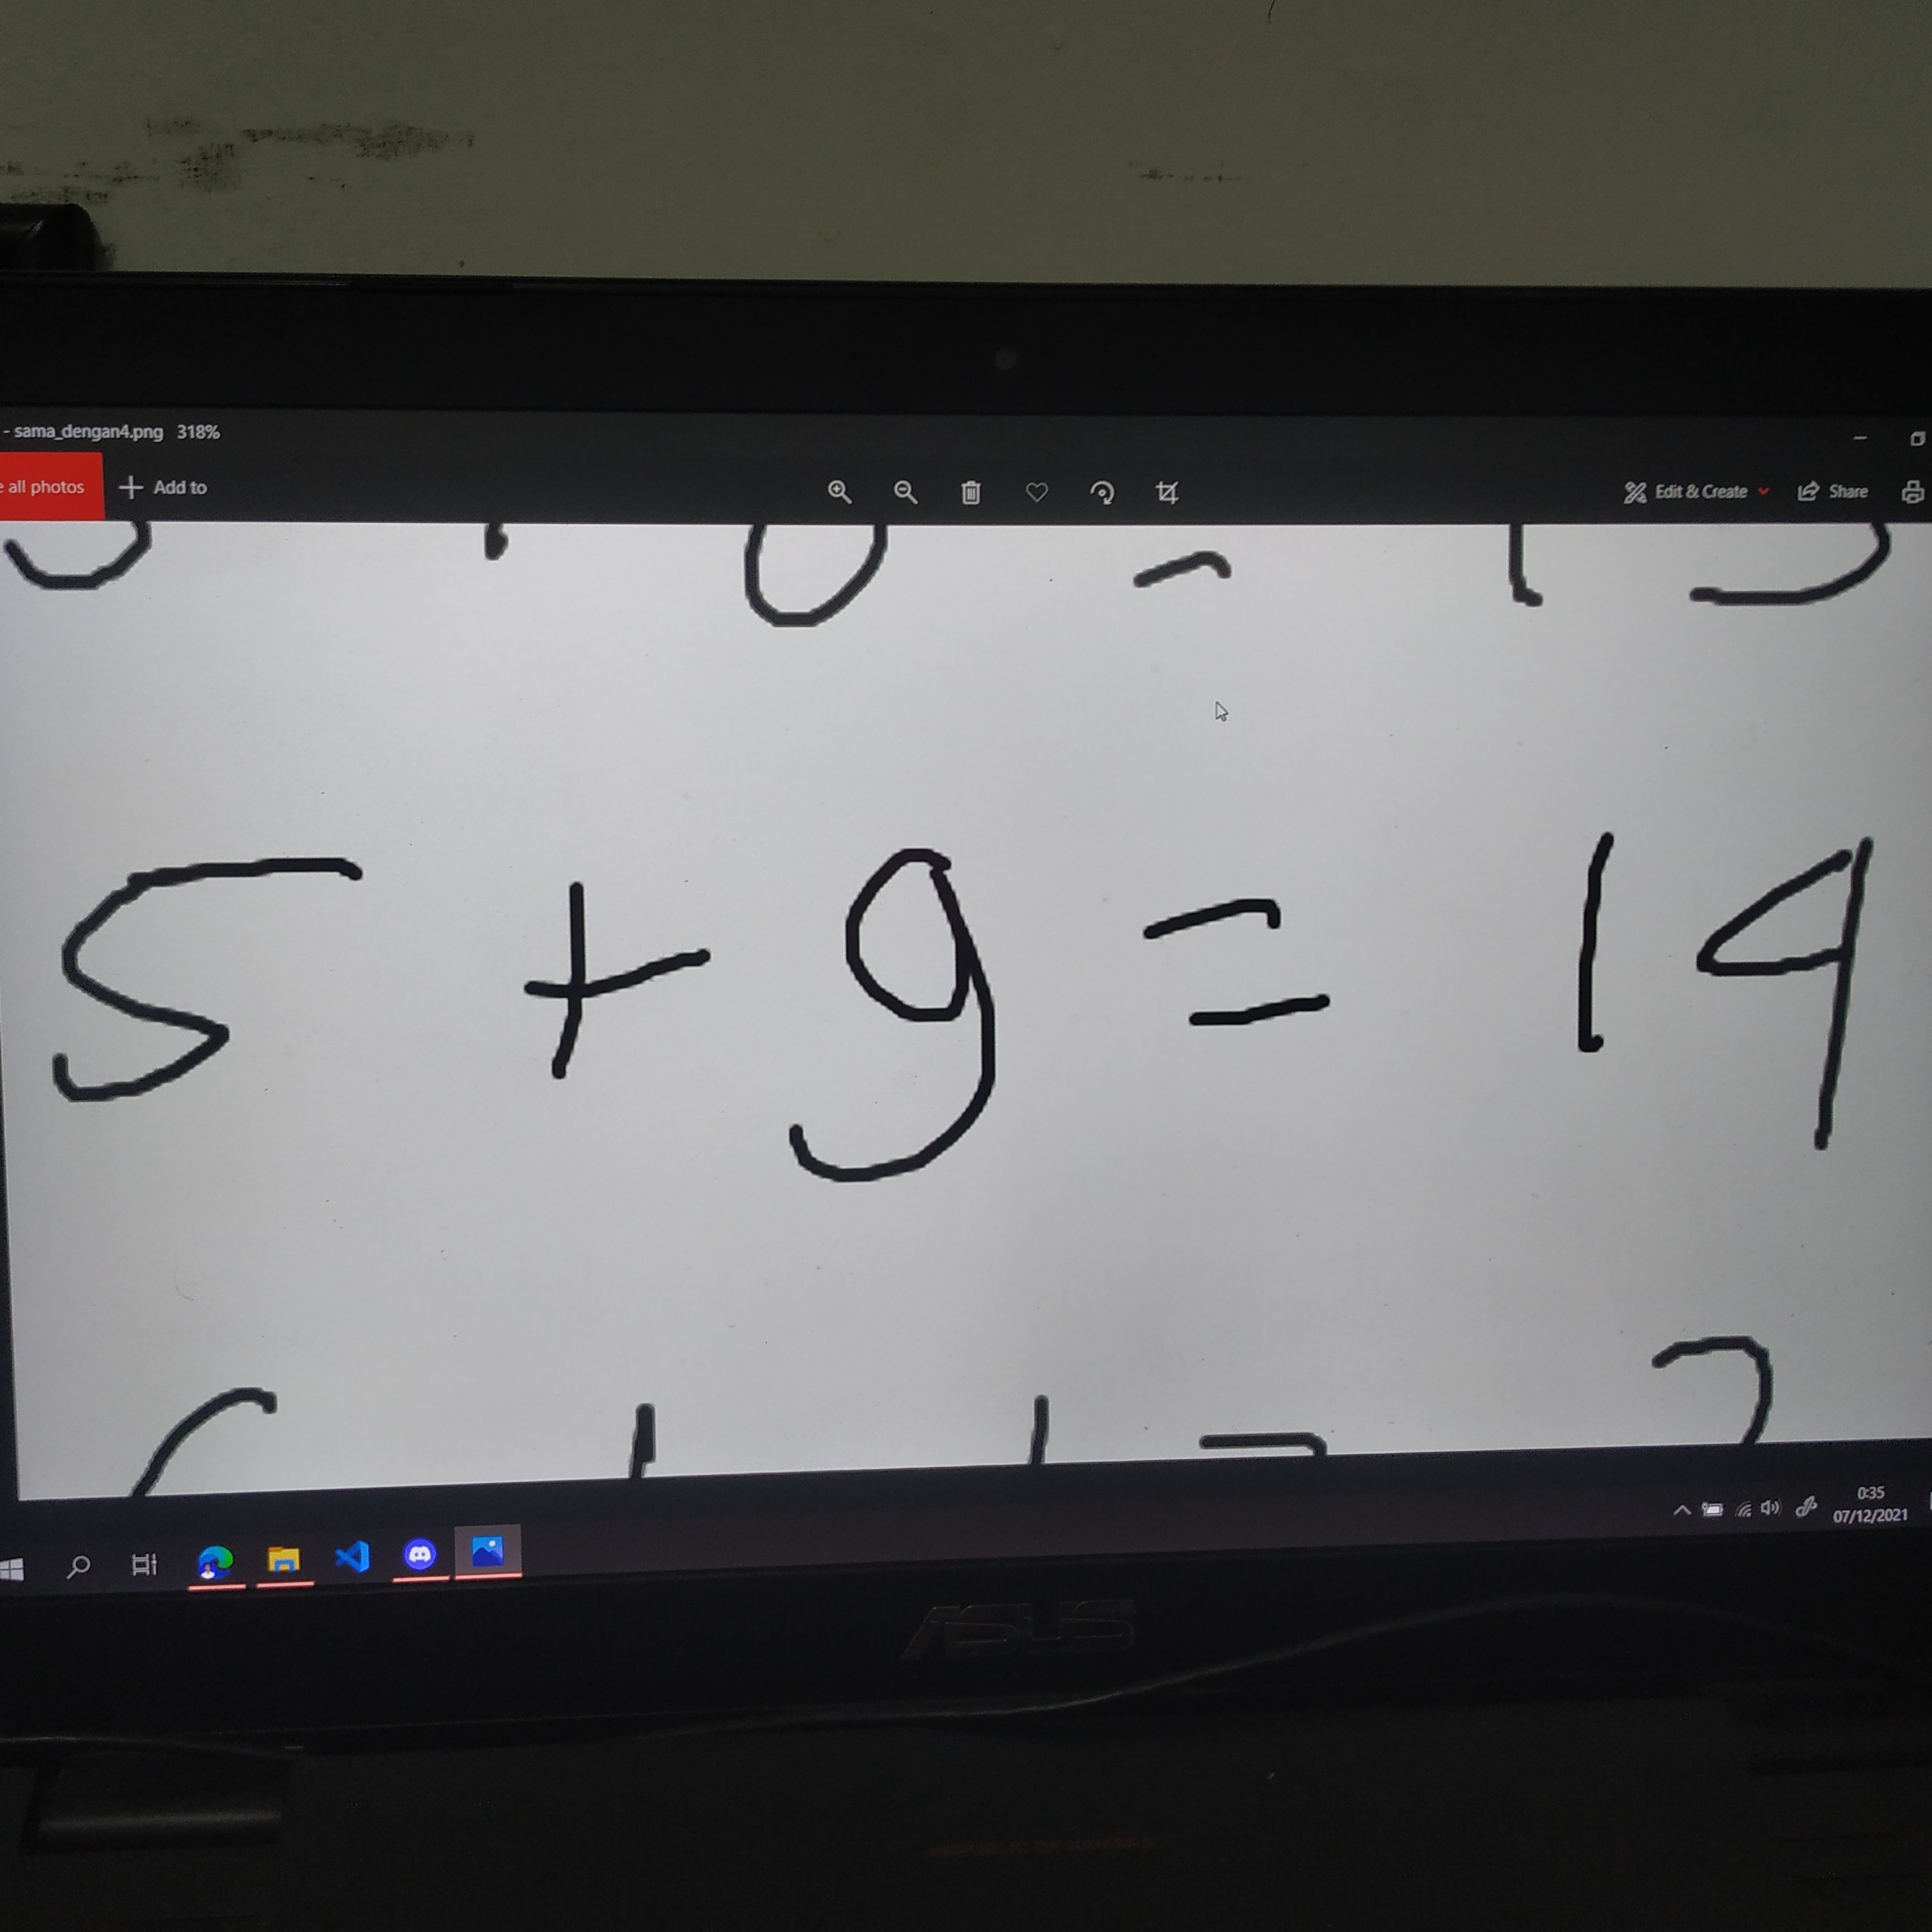equal: (1116, 875, 1403, 1068)
num1: (1544, 810, 1642, 1074)
num4: (1689, 824, 1893, 1182)
num5: (23, 835, 399, 1122)
num9: (771, 835, 1043, 1190)
sum: (493, 875, 740, 1099)
